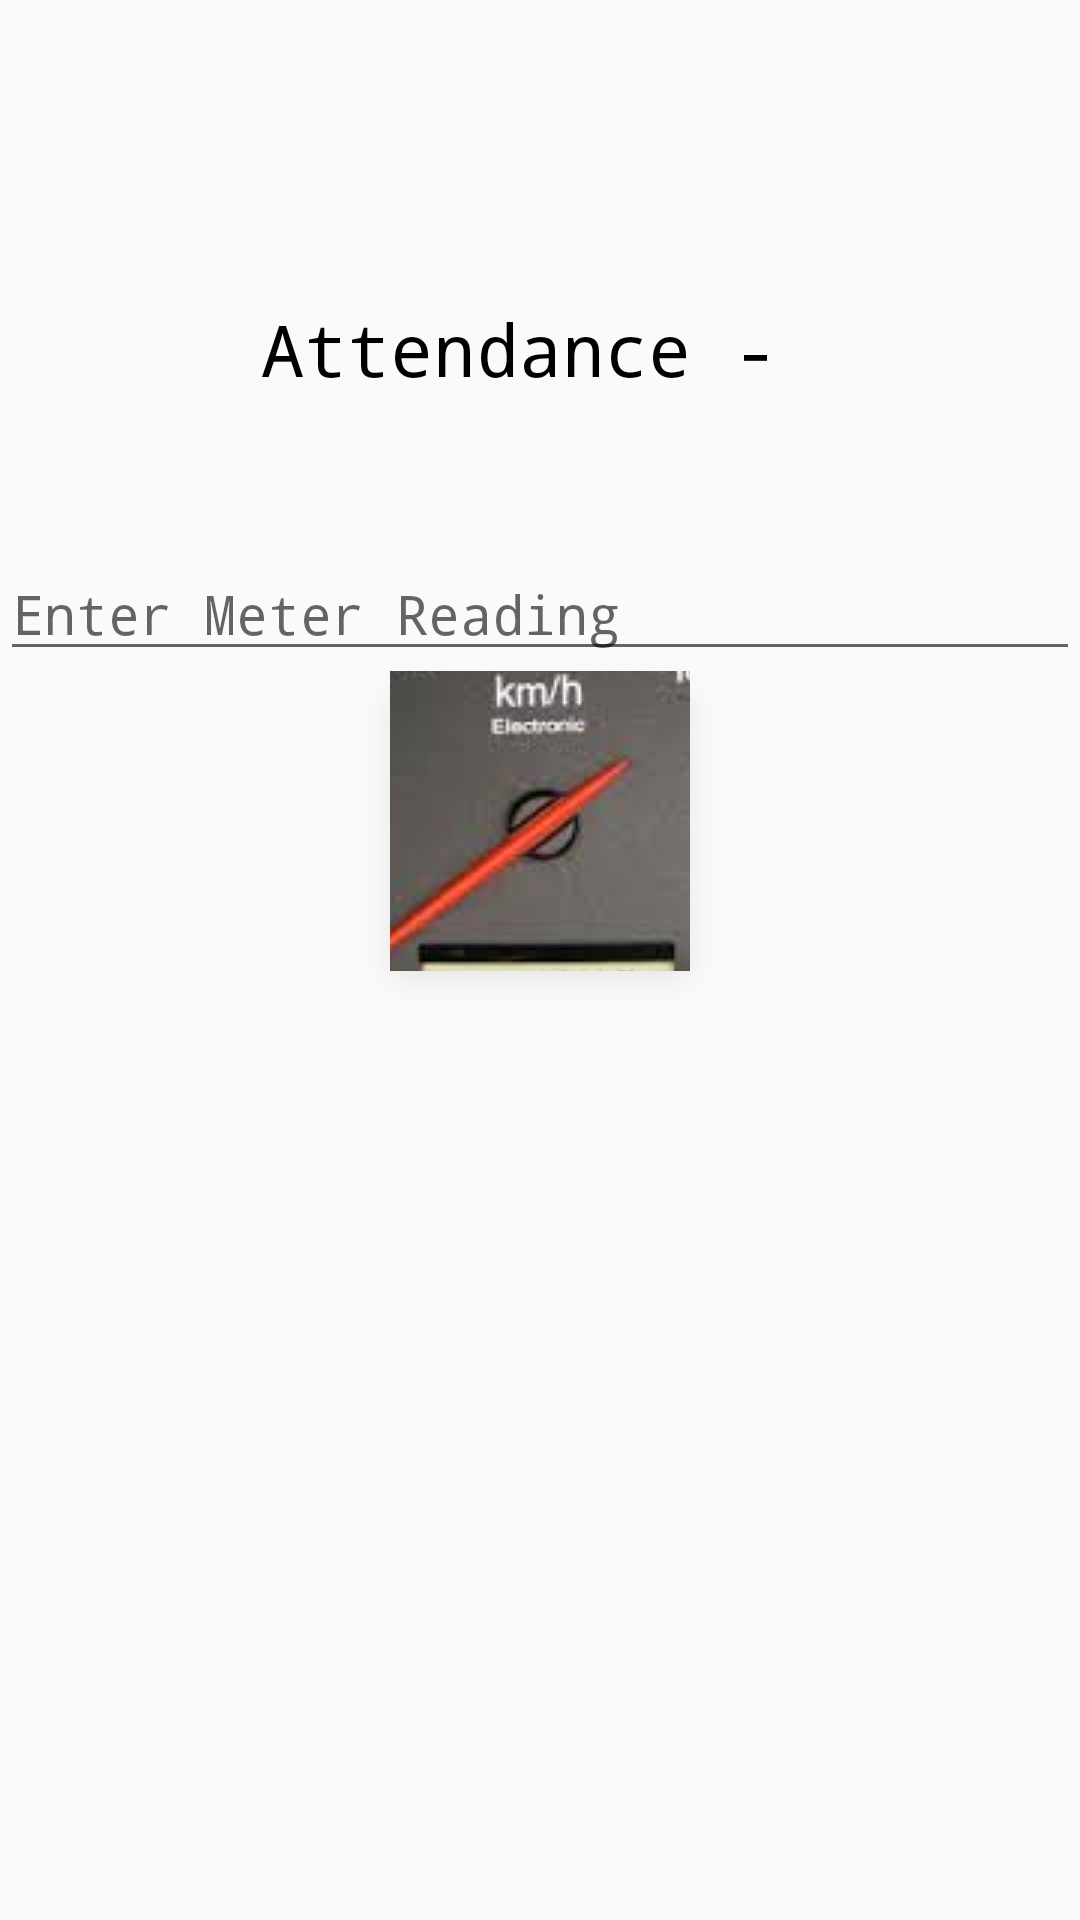

Named icons in this screenshot (1080 × 1920) and their centers, point (x, y):
odom: point (540, 821)
